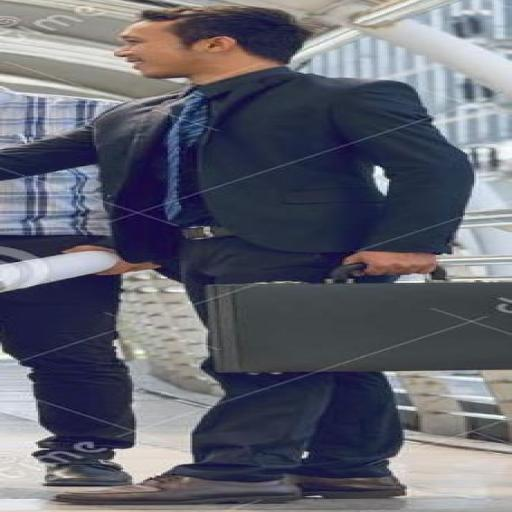person: (0, 7, 471, 324), (0, 275, 134, 485)
